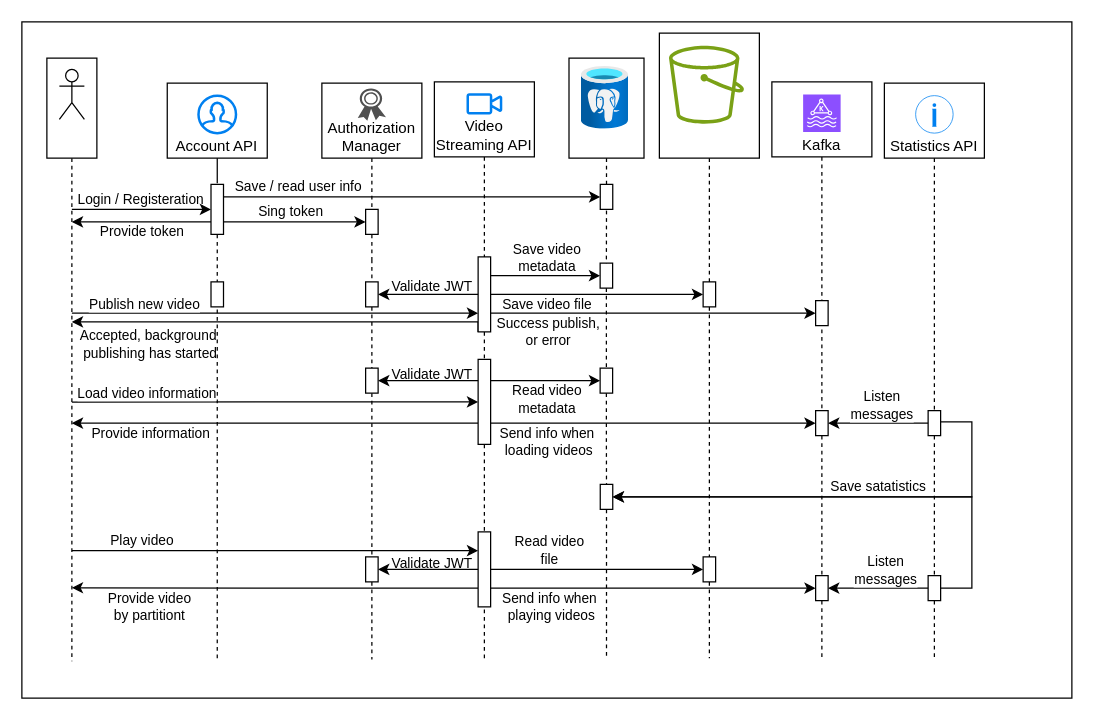
The diagram is 1094 pixels wide and 720 high, and some of its shapes have lost their labels. Here are the shapes that lost their labels. From the top down, the box of each, then its label:
(58, 68, 84, 119): User
(581, 66, 628, 129): Database
(668, 45, 743, 123): MinIo Storage
